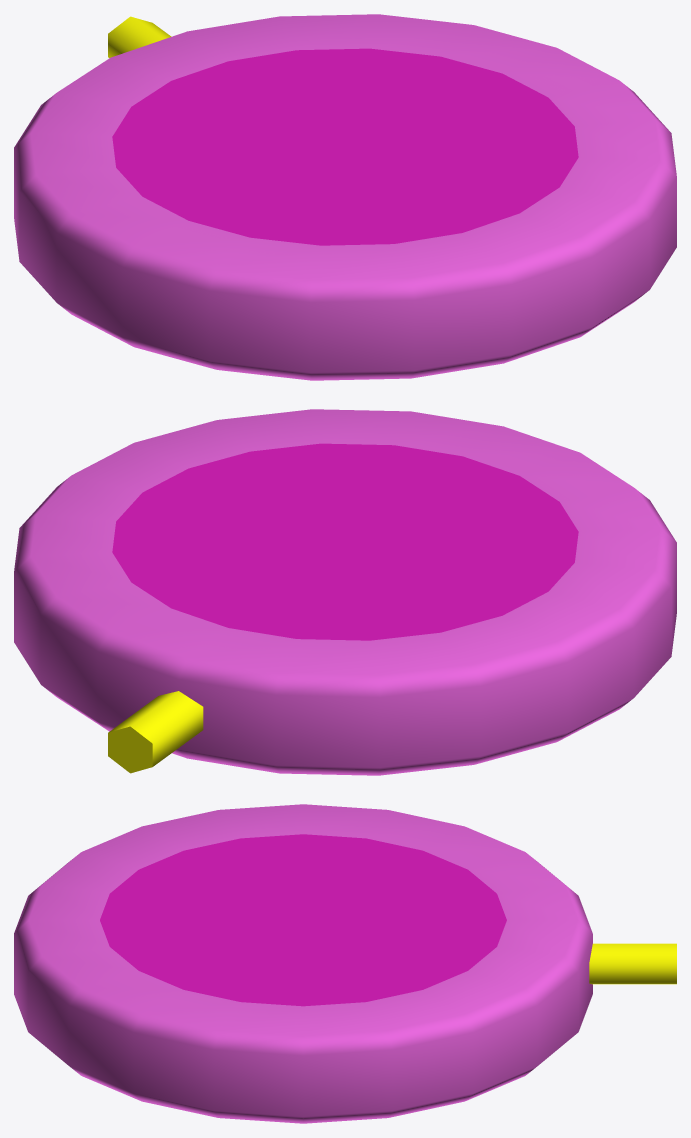
The model's file is Elevator_02.glb.
The picture shows the model from 3 angles, top to bottom: view 1: azimuth 30°, elevation 25°; view 2: azimuth 150°, elevation 25°; view 3: azimuth 270°, elevation 25°; orthographic projection. The views are drawn at different scales.
Parts seen in each view (by area): view 1: Elevator_02; view 2: Elevator_02; view 3: Elevator_02.
Part boxes in pixels (box(x1,y1,x2,y2)): Elevator_02: box(14, 14, 676, 380); Elevator_02: box(14, 409, 676, 775); Elevator_02: box(14, 804, 676, 1123).
Size of the model in its own units: 3 by 0.5 by 3.44.
1 material, 1 textured.
